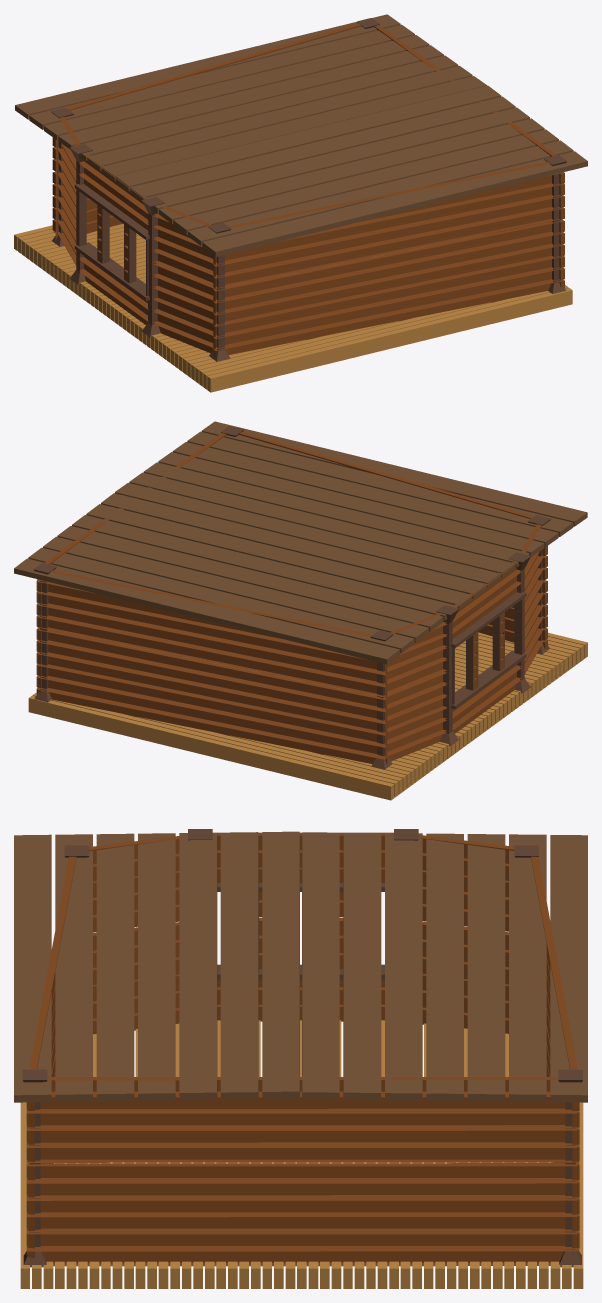
File: NewPirateCabin.fbx
The picture shows the model from 3 angles, top to bottom: view 1: azimuth 30°, elevation 25°; view 2: azimuth 150°, elevation 25°; view 3: azimuth 270°, elevation 25°; orthographic projection. The views are drawn at different scales.
Parts seen in each view (by area): view 1: Cube.019, Roof2.005, Roof2.004, WoodenFloor.002; view 2: Cube.019, Roof2.004, Roof2.005, WoodenFloor.002; view 3: Cube.019, Roof2.005, Roof2.004, WoodenFloor.002.
Boxes of the visible parts, bbox=[...] form: Cube.019: bbox=[51, 18, 566, 361]; Roof2.005: bbox=[115, 85, 587, 256]; Roof2.004: bbox=[15, 14, 486, 181]; WoodenFloor.002: bbox=[14, 223, 572, 392]; Cube.019: bbox=[33, 426, 550, 769]; Roof2.004: bbox=[14, 493, 486, 664]; Roof2.005: bbox=[115, 421, 587, 587]; WoodenFloor.002: bbox=[28, 632, 587, 800]; Cube.019: bbox=[22, 829, 582, 1267]; Roof2.005: bbox=[14, 831, 299, 1102]; Roof2.004: bbox=[302, 832, 587, 1102]; WoodenFloor.002: bbox=[20, 1020, 583, 1288].
Bounding box in the file's own units: 1601 × 585 × 1476.
